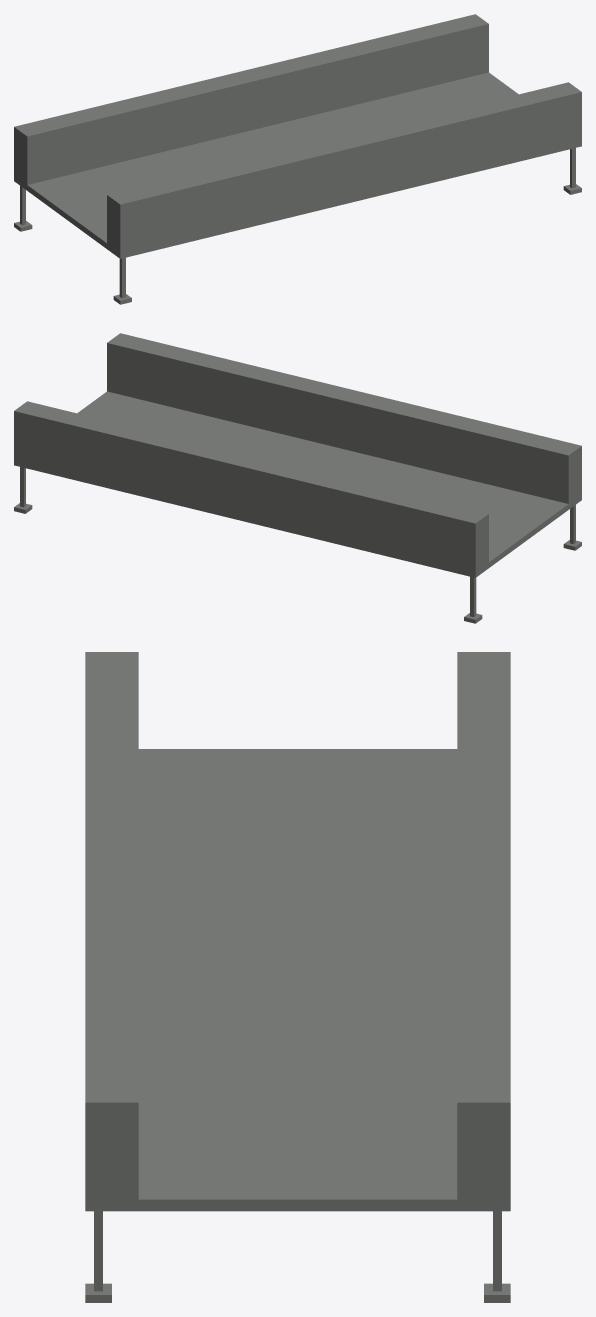
File: Dry Dock.glb
3 views of the same model, one above another, from view 1: azimuth 30°, elevation 25°; view 2: azimuth 150°, elevation 25°; view 3: azimuth 270°, elevation 25° (orthographic). The views are drawn at different scales.
Parts seen in each view (by area): view 1: Dry Dock, Poles, Leg; view 2: Dry Dock, Poles, Leg; view 3: Dry Dock, Poles, Leg.
Boxes of the visible parts, box(x1,y1,x2,y2) form: Dry Dock: box(14, 14, 581, 258); Poles: box(20, 148, 575, 298); Leg: box(14, 184, 581, 304); Dry Dock: box(14, 333, 581, 577); Poles: box(20, 467, 575, 617); Leg: box(14, 503, 581, 623); Dry Dock: box(85, 652, 510, 1211); Poles: box(94, 1211, 501, 1291); Leg: box(85, 1283, 510, 1302).
Bounding box in the file's own units: 20 × 4.15 × 7.98.
Materials: 1 (1 with a texture image).
